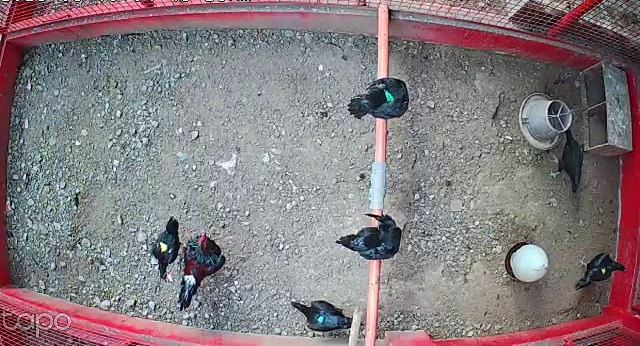Chicken: (346, 72, 412, 126), (567, 245, 636, 295), (333, 215, 403, 263), (288, 294, 367, 333), (547, 127, 593, 192), (151, 216, 188, 281), (157, 239, 172, 253)
Rooster: (176, 227, 225, 305)
Saddle_Color_Blue: (317, 312, 325, 322)
